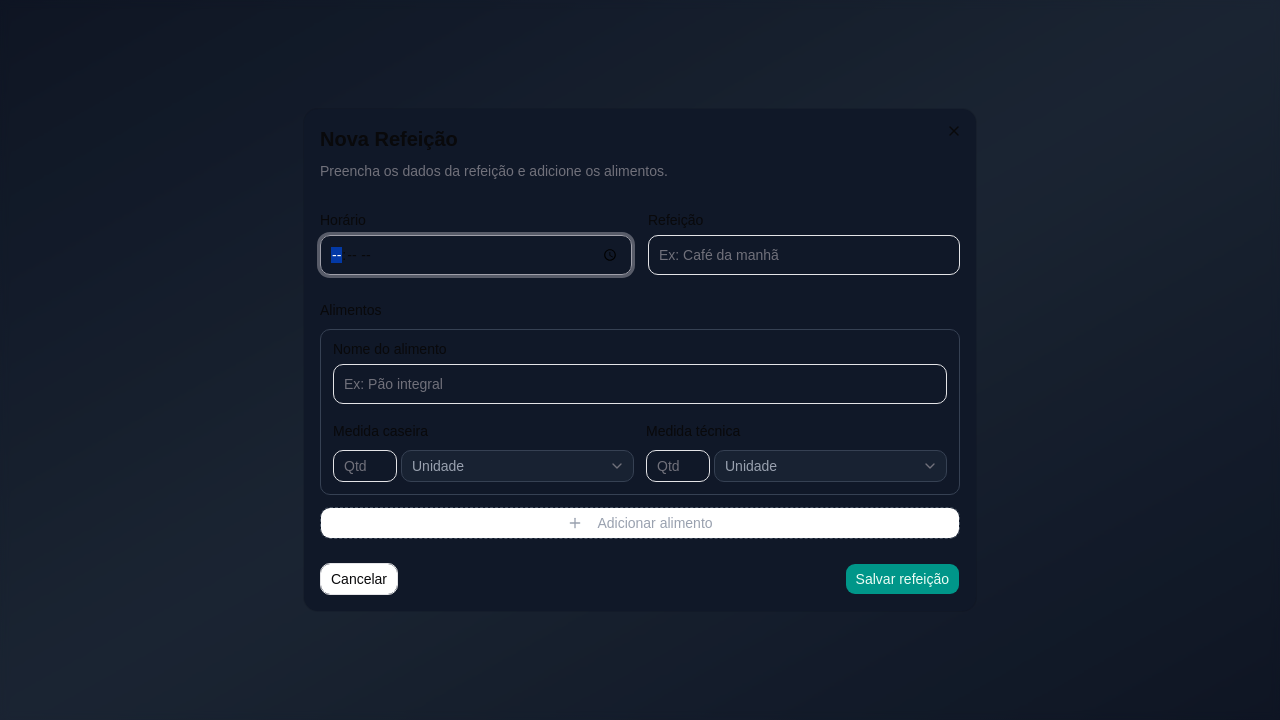
Test case: AddMealModal › discards draft on cancel
Type "Rascunho" into the field named "name".
click(804, 255); type("Rascunho")  # box [648, 235, 960, 275]
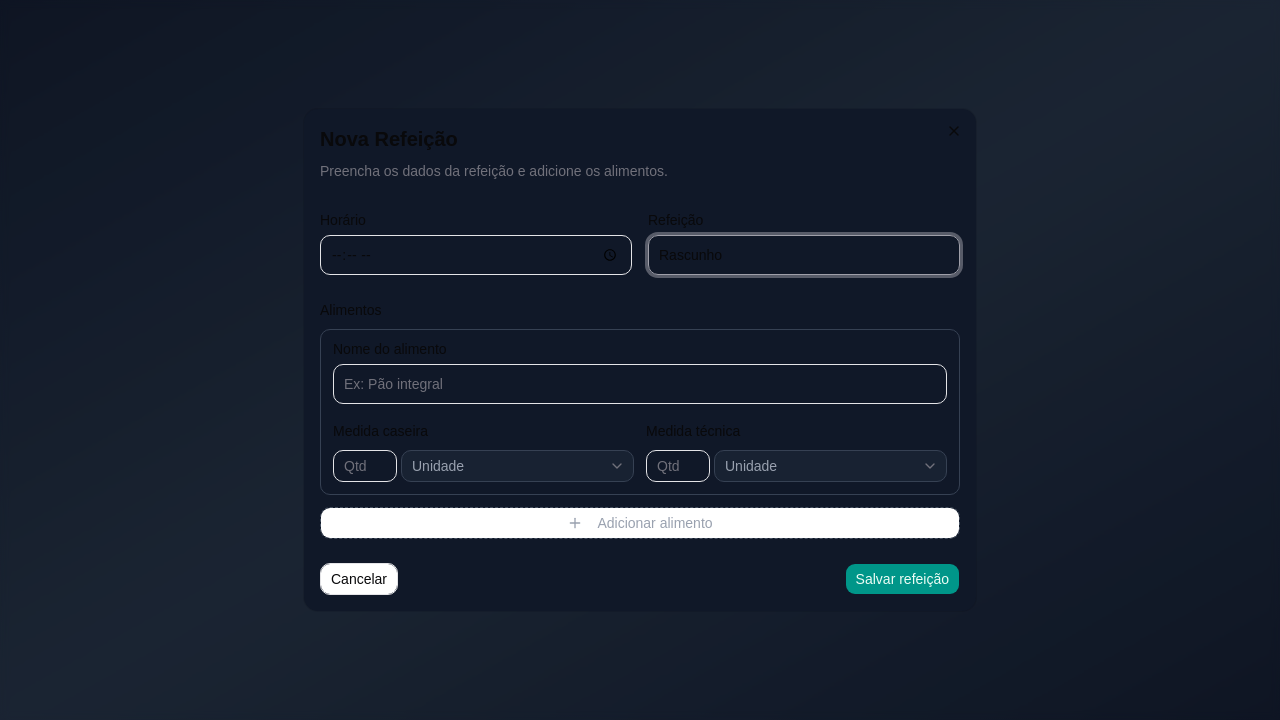
Click the button "Cancelar".
click(359, 579)  # box [320, 563, 398, 595]
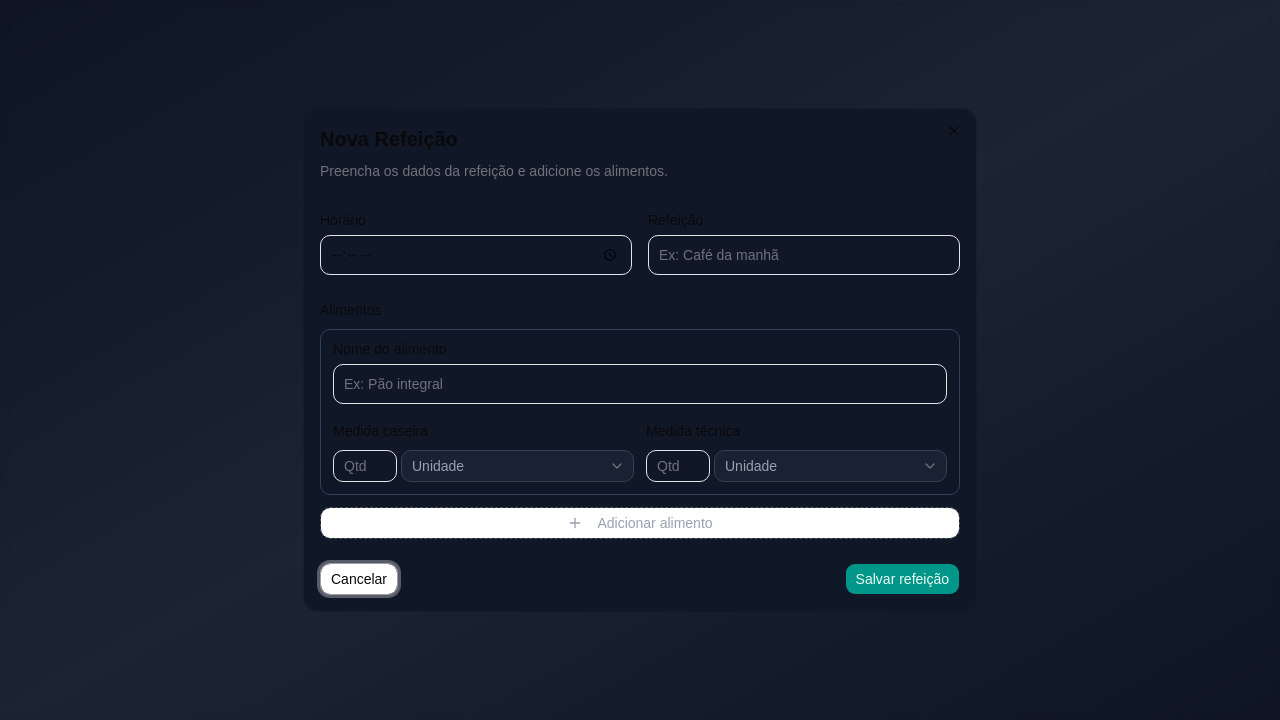
Expected: the field named "name" is empty, [648, 235, 960, 275]
